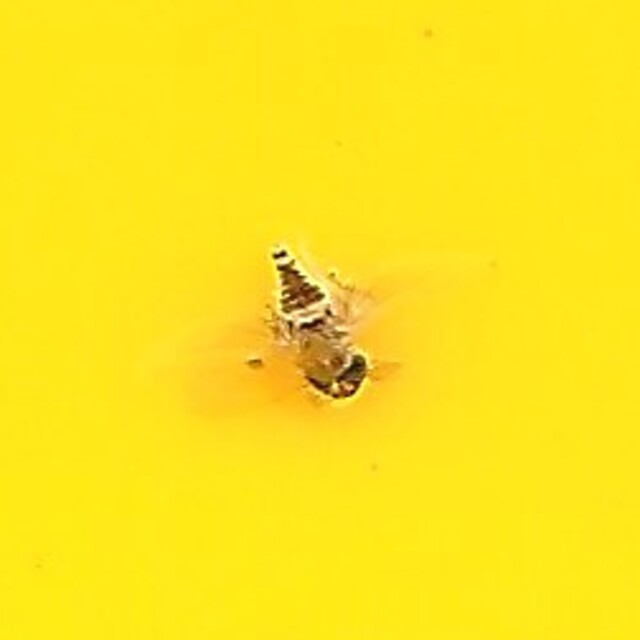Hemiptera: (254, 234, 386, 406)
